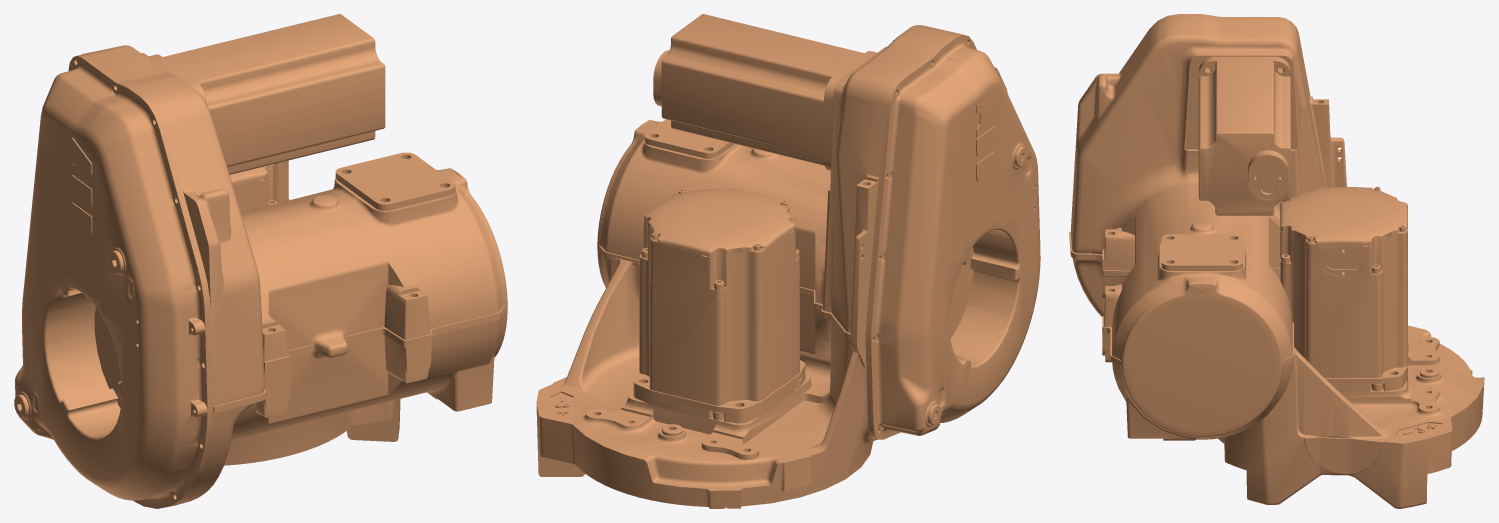
The picture shows the model from 3 angles, left to right: view 1: azimuth 30°, elevation 25°; view 2: azimuth 150°, elevation 25°; view 3: azimuth 270°, elevation 25°; orthographic projection. The views are drawn at different scales.
Visible parts, largest first — view 1: link_3; view 2: link_3; view 3: link_3.
Boxes of the visible parts, x1,y1,x2,y2 form: link_3: (14,14,507,508); link_3: (536,14,1040,508); link_3: (1069,14,1484,508).
Bounding box in the file's own units: 0.5115 × 0.572 × 0.5855.
